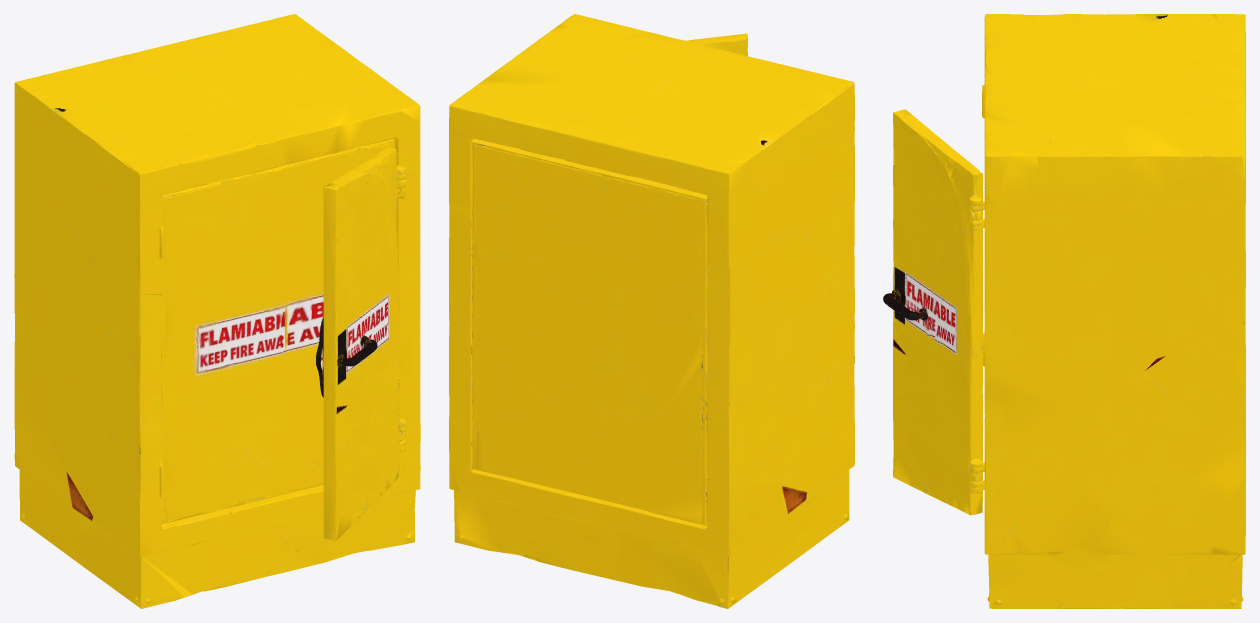
The model's file is hcrg-justrite-02.glb.
3 renders of one model, left to right at view 1: azimuth 30°, elevation 25°; view 2: azimuth 150°, elevation 25°; view 3: azimuth 270°, elevation 25°, orthographic. The views are drawn at different scales.
Size of the model in its own units: 1.28 by 1.9 by 1.37.
Materials: 1 (1 with a texture image).
